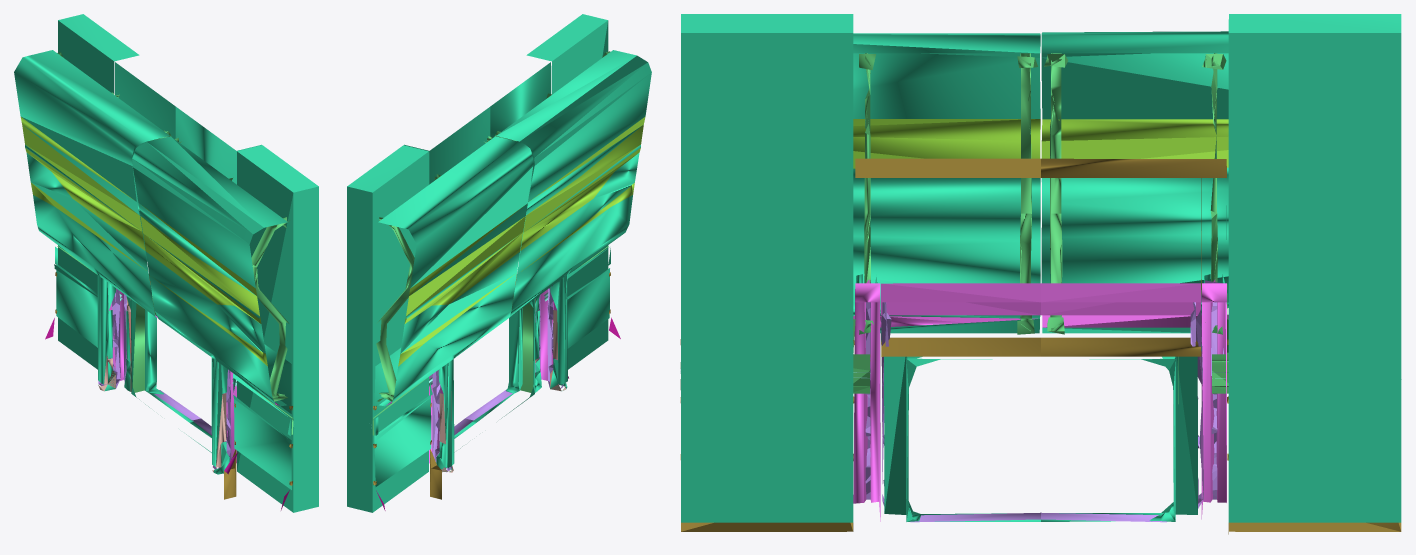
File: tdd_entrance_doorframe_002.glb
3 views of the same model, side by side, from view 1: azimuth 30°, elevation 25°; view 2: azimuth 150°, elevation 25°; view 3: azimuth 270°, elevation 25° (orthographic). The views are drawn at different scales.
Size of the model in its own units: 2.74 by 12.93 by 16.02.
